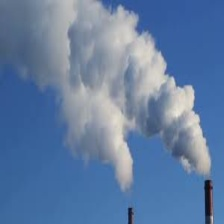smoke: (1, 4, 214, 179)
